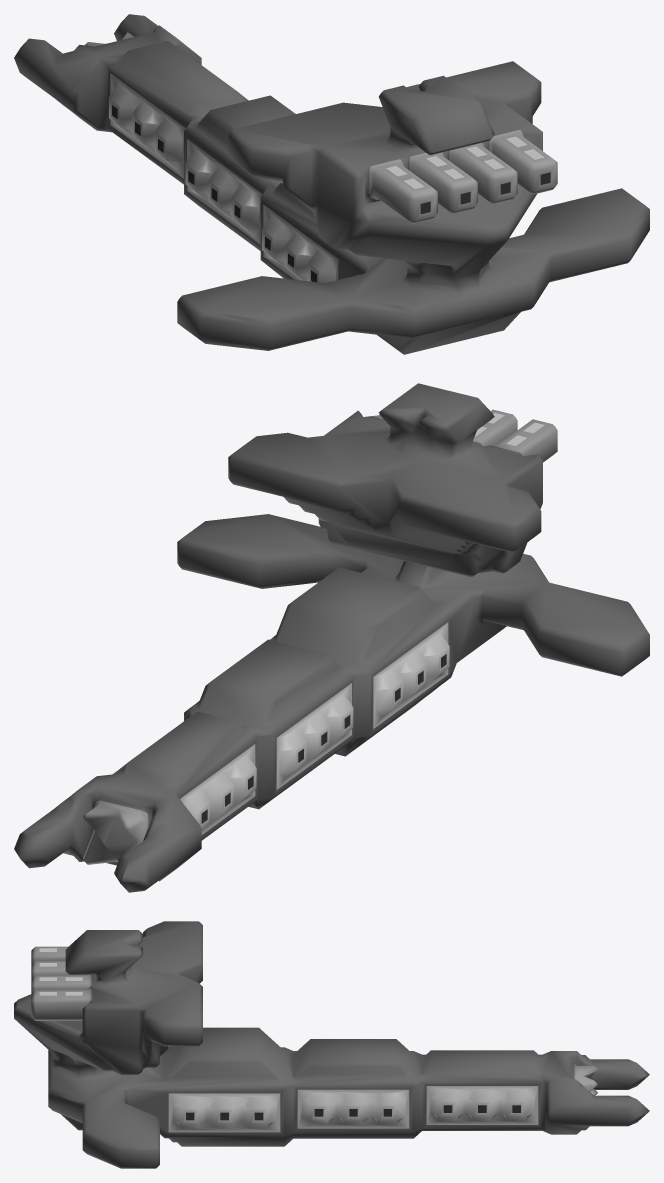
Rendered from fulkreykk-4-kassck-class.obj.
3 renders of one model, top to bottom at view 1: azimuth 30°, elevation 25°; view 2: azimuth 150°, elevation 25°; view 3: azimuth 270°, elevation 25°, orthographic. The views are drawn at different scales.
Bounding box in the file's own units: 45 × 25 × 74.
Materials: 1 (1 with a texture image).
